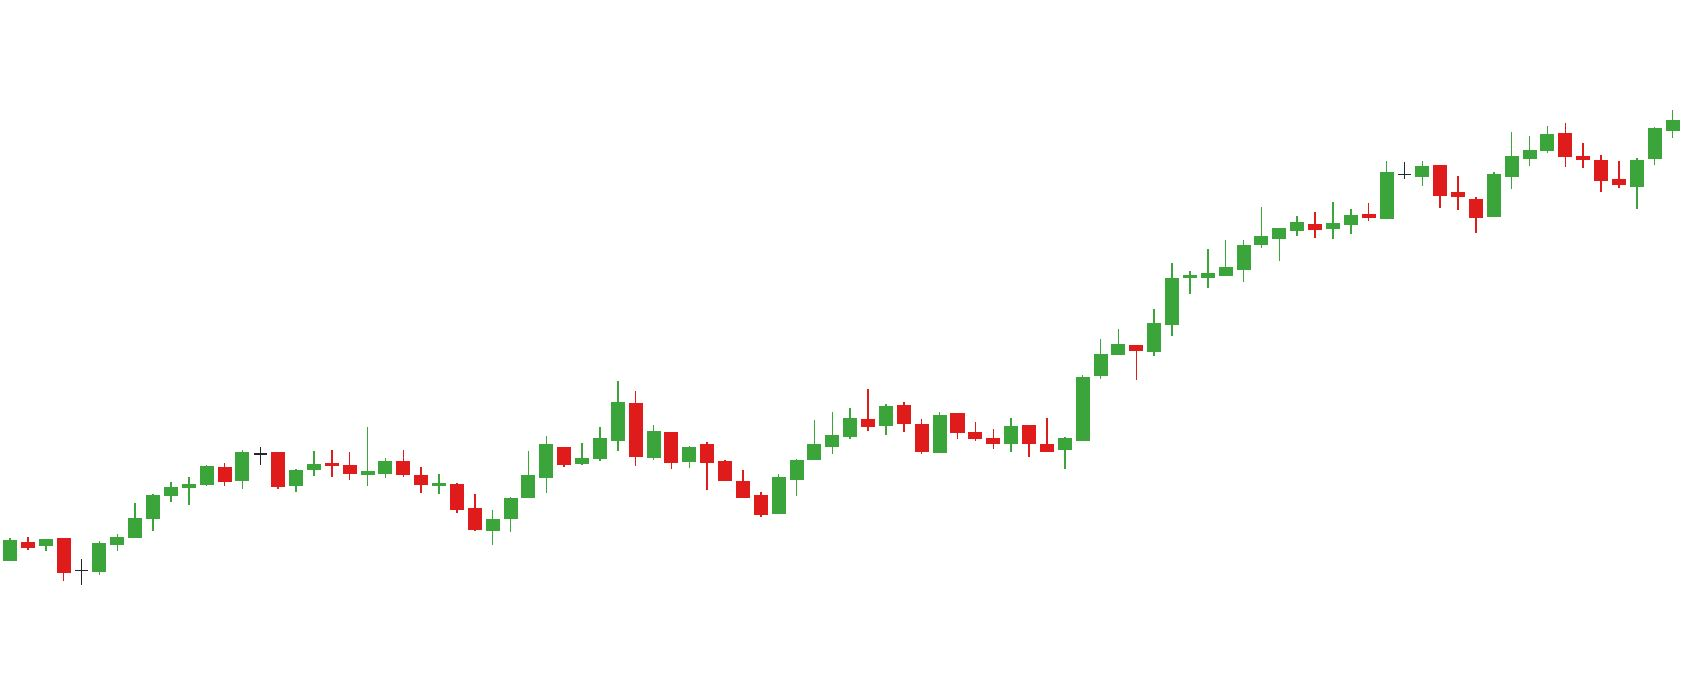buy: (913, 417, 1073, 476), (1377, 170, 1486, 240)
